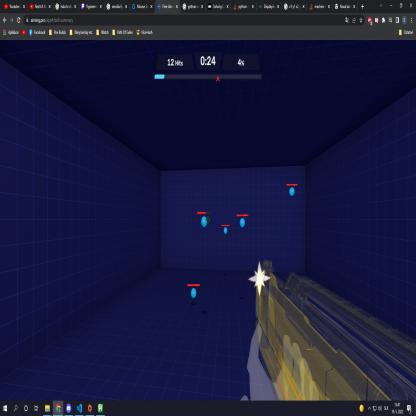sphere: (201, 215, 208, 228), (288, 187, 296, 197), (191, 287, 196, 299), (240, 218, 245, 228), (223, 226, 228, 234)
